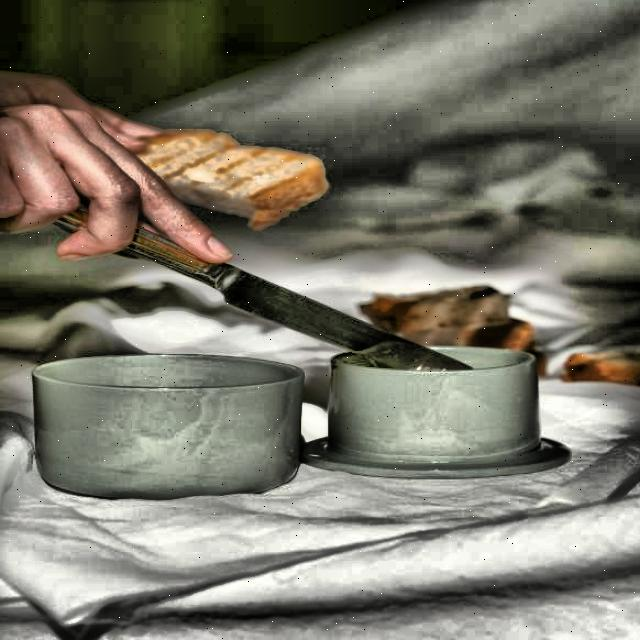knife: (0, 177, 492, 382)
